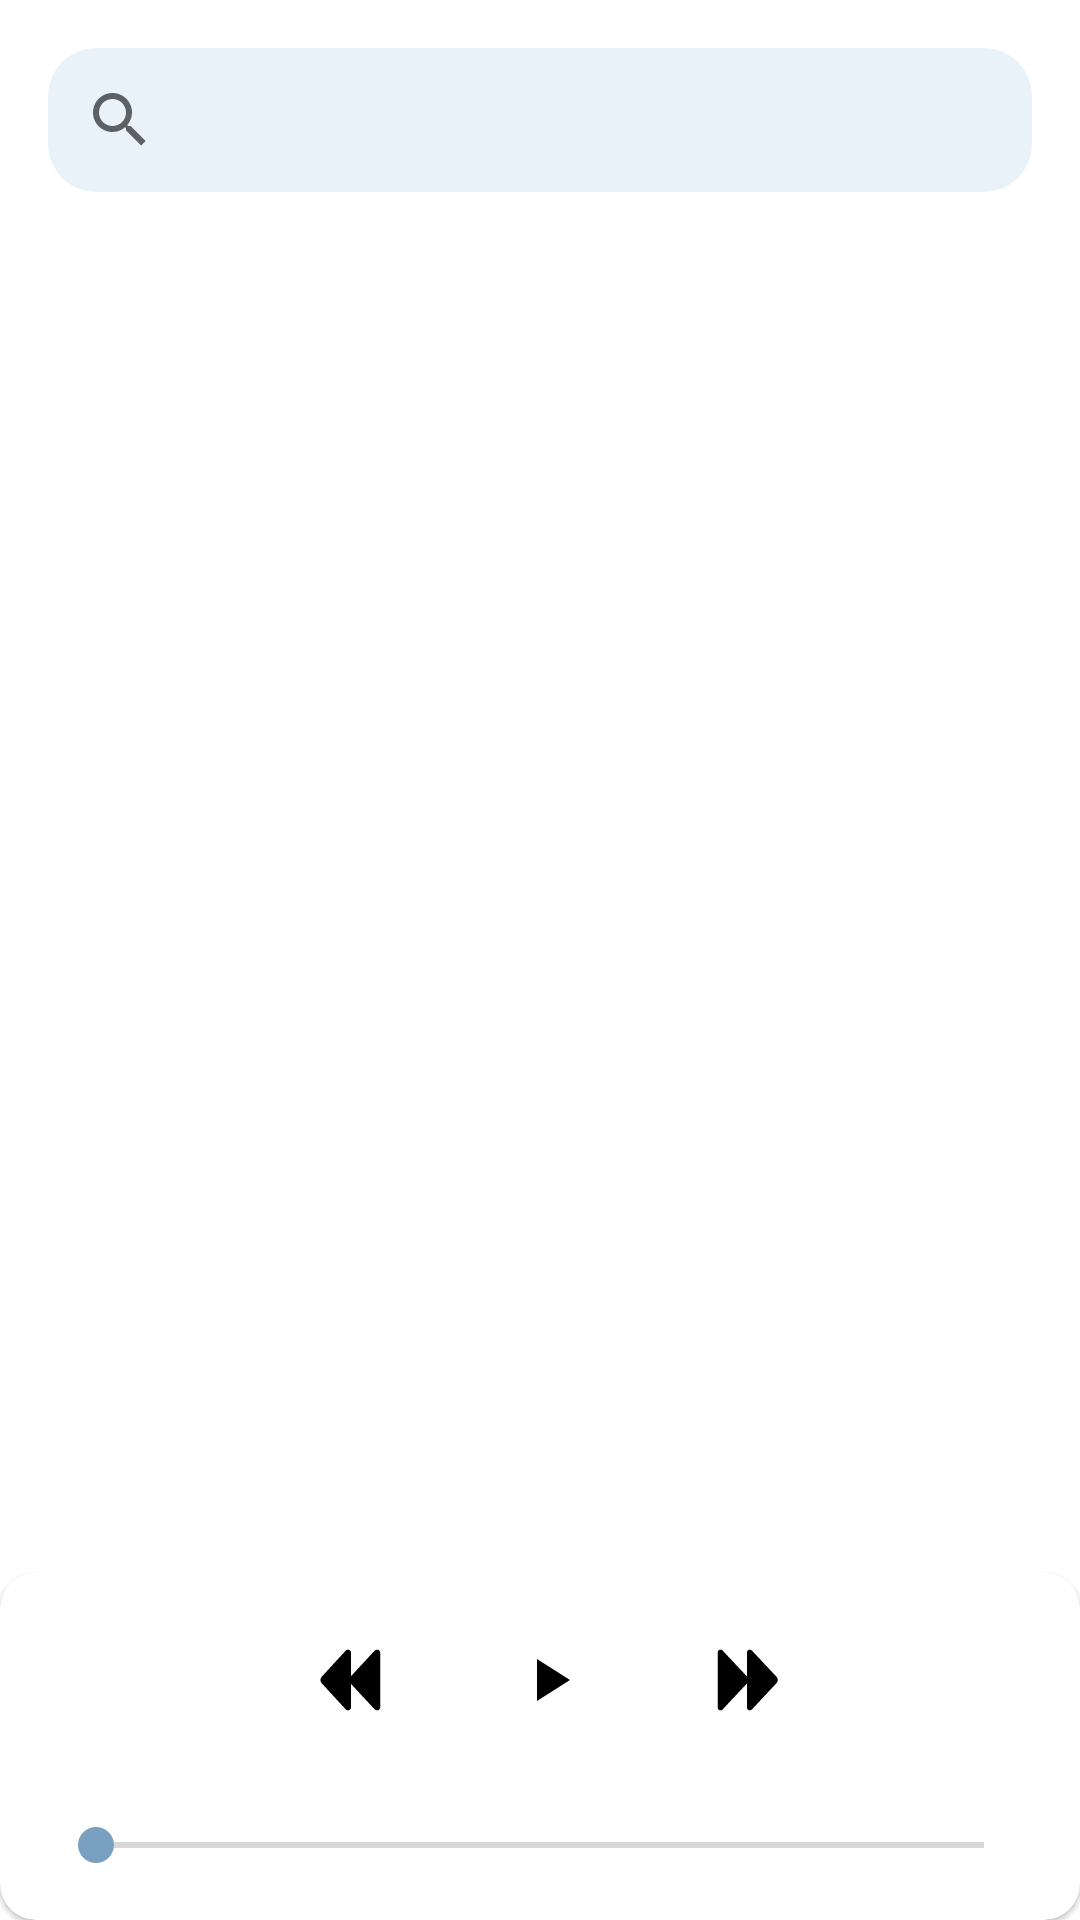

Screen size 1080px x 1920px. Icon name, then its box in pixels as (x1, y1, x2, y2):
next: (717, 1649, 778, 1711)
play: (537, 1659, 570, 1701)
previous: (320, 1649, 381, 1711)
